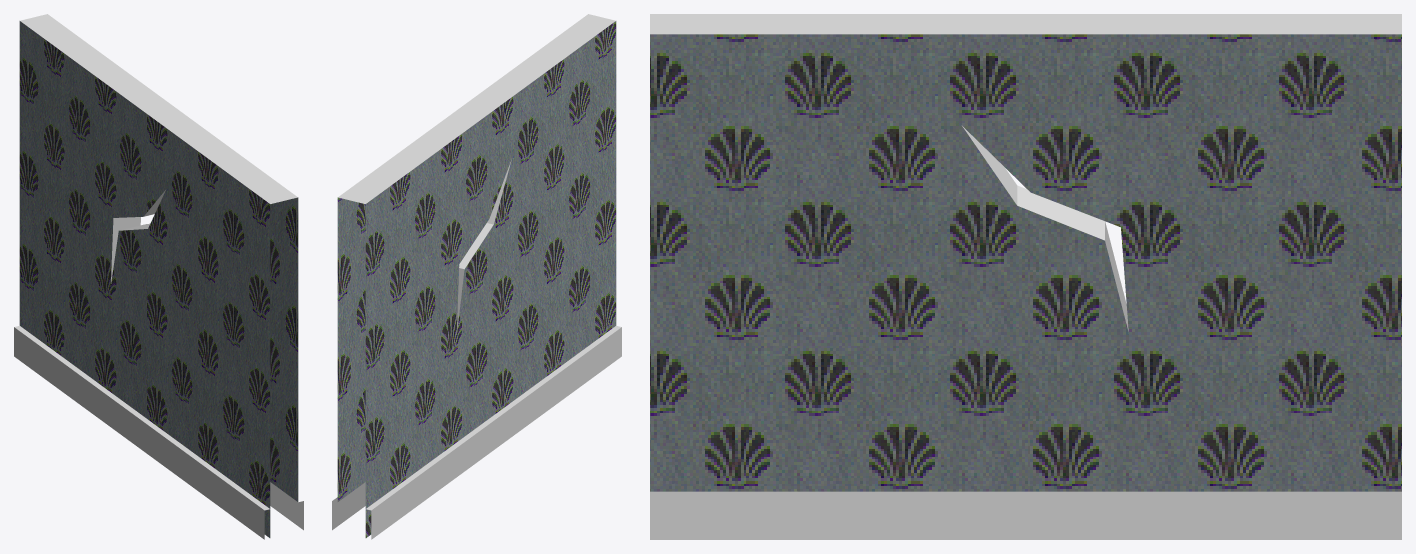
Rendered from wall_cracked.fbx.
3 renders of one model, left to right at view 1: azimuth 30°, elevation 25°; view 2: azimuth 150°, elevation 25°; view 3: azimuth 270°, elevation 25°, orthographic. The views are drawn at different scales.
Visible parts, largest first — view 1: WallCracked; view 2: WallCracked; view 3: WallCracked.
Boxes of the visible parts, box(x1,y1,x2,y2) form: WallCracked: box(14, 14, 303, 539); WallCracked: box(332, 14, 621, 539); WallCracked: box(650, 14, 1401, 539).
Size of the model in its own units: 69.43 by 568 by 771.
